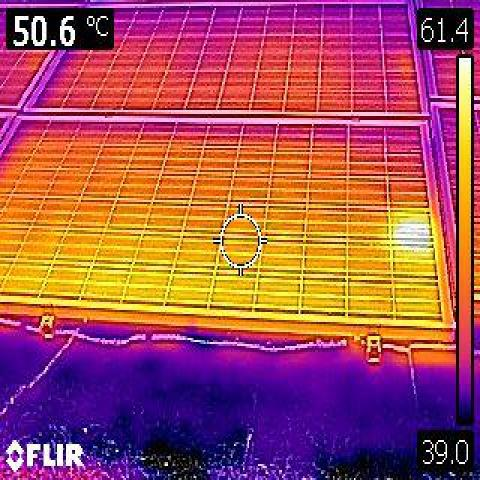fault: (391, 210, 431, 245)
